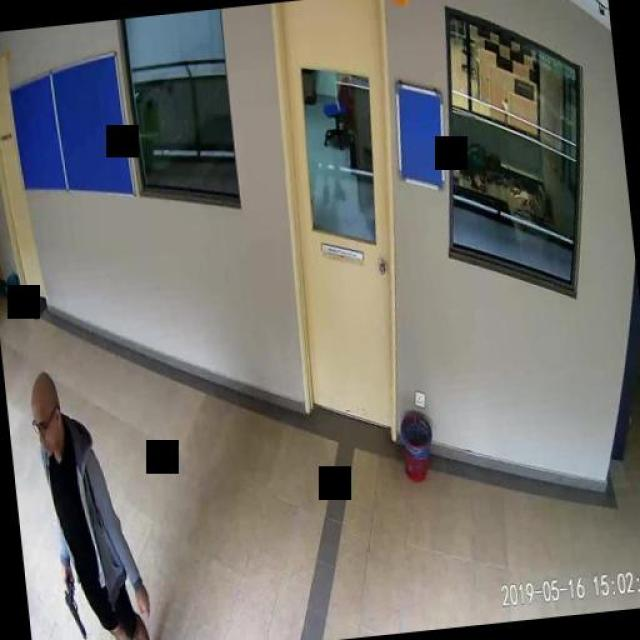gun: (58, 574, 84, 635)
